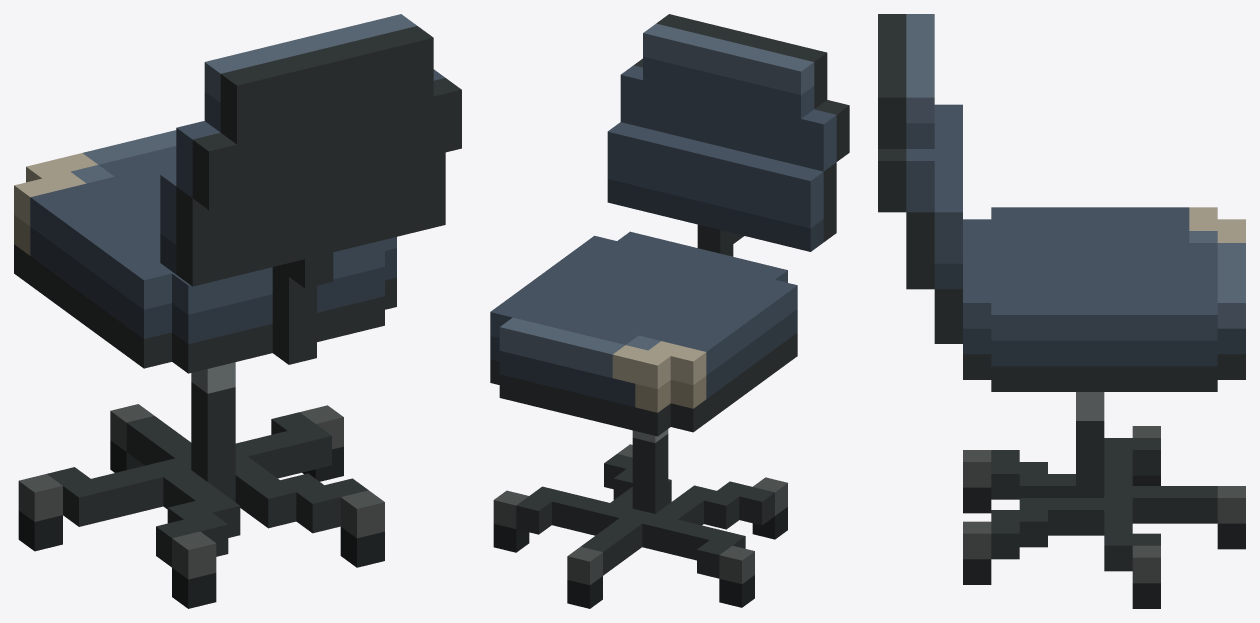
Rendered from Claude_desk_chair.glb.
The picture shows the model from 3 angles, left to right: view 1: azimuth 30°, elevation 25°; view 2: azimuth 150°, elevation 25°; view 3: azimuth 270°, elevation 25°; orthographic projection. The views are drawn at different scales.
Visible parts, largest first — view 1: Claude_desk_chair; view 2: Claude_desk_chair; view 3: Claude_desk_chair.
Part boxes in pixels (x1,y1,x2,y2): Claude_desk_chair: [14, 14, 461, 608]; Claude_desk_chair: [490, 14, 849, 608]; Claude_desk_chair: [878, 14, 1245, 608].
Size of the model in its own units: 0.55 by 0.95 by 0.65.
